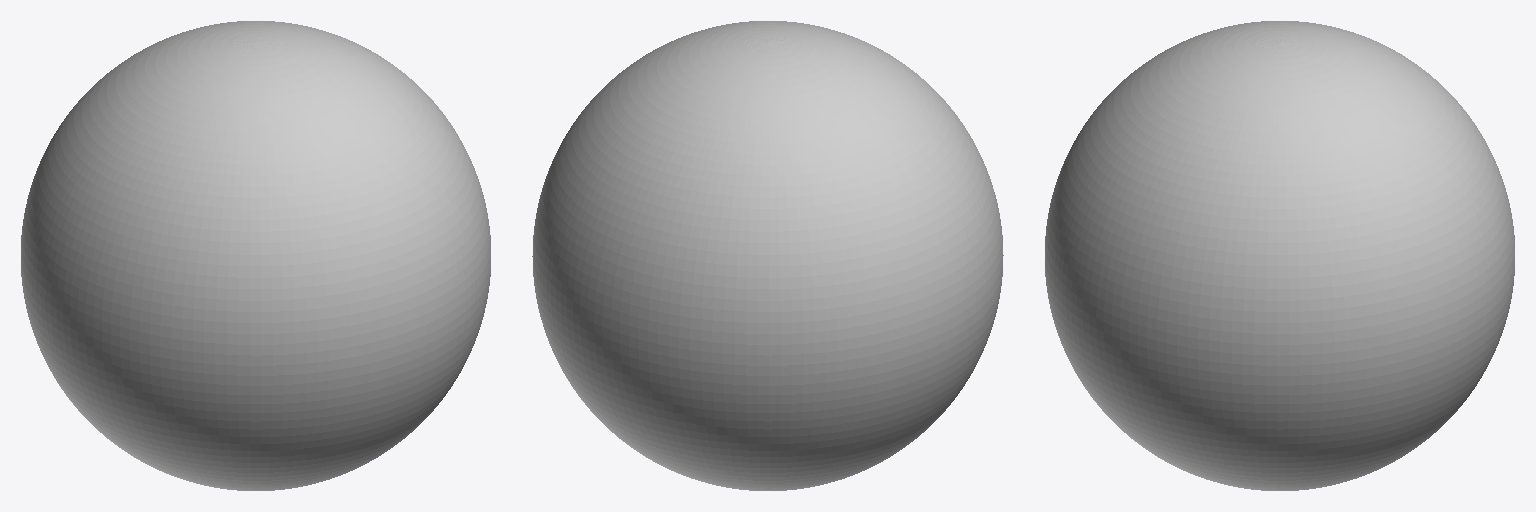
Rendered from rough_wood_1k.obj.
3 views of the same model, side by side, from view 1: azimuth 30°, elevation 25°; view 2: azimuth 150°, elevation 25°; view 3: azimuth 270°, elevation 25° (orthographic).
Visible parts, largest first — view 1: Sphere; view 2: Sphere; view 3: Sphere.
Part boxes in pixels (left/top/right/bottom): Sphere: left=21, top=21, right=490, bottom=490; Sphere: left=532, top=21, right=1003, bottom=490; Sphere: left=1045, top=21, right=1514, bottom=490.
Size of the model in its own units: 0.5 by 0.5 by 0.5.